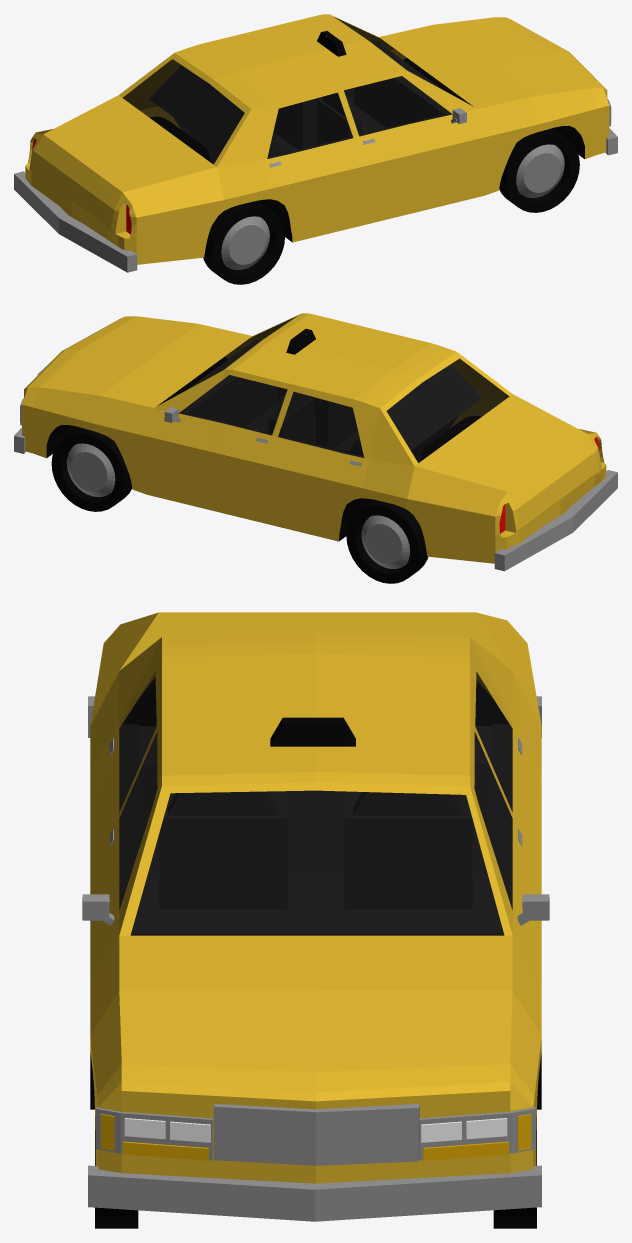
The picture shows the model from 3 angles, top to bottom: view 1: azimuth 30°, elevation 25°; view 2: azimuth 150°, elevation 25°; view 3: azimuth 270°, elevation 25°; orthographic projection. The views are drawn at different scales.
Parts seen in each view (by area): view 1: Cube.033_8, Cube.001_0, Cube.047_11, Cylinder.004_15, Cylinder_12, Cube.029_6, Cube.035_9, Cube.031_7; view 2: Cube.033_8, Cube.001_0, Cube.047_11, Cylinder.003_14, Cylinder.002_13, Cube.029_6, Cube.035_9, Cube.031_7; view 3: Cube.033_8, Cube.001_0, Cube.047_11, Cube.029_6, Cube.013_3, Cube.031_7, Cylinder.002_13, Cylinder_12.
Part boxes in pixels (x1,y1,x2,y2): Cube.033_8: (25, 14, 609, 264); Cube.001_0: (123, 17, 472, 164); Cube.047_11: (149, 41, 451, 163); Cylinder.004_15: (203, 200, 284, 284); Cylinder_12: (499, 128, 579, 212); Cube.029_6: (14, 99, 617, 272); Cube.035_9: (150, 58, 584, 242); Cube.031_7: (317, 31, 346, 56); Cube.033_8: (22, 313, 606, 563); Cube.001_0: (158, 317, 509, 462); Cube.047_11: (179, 340, 481, 462); Cylinder.003_14: (346, 499, 428, 583); Cylinder.002_13: (51, 427, 132, 511); Cube.029_6: (14, 361, 617, 571); Cube.035_9: (46, 357, 481, 541); Cube.031_7: (286, 328, 315, 354); Cube.033_8: (90, 612, 541, 1183); Cube.001_0: (119, 672, 512, 935); Cube.047_11: (119, 677, 512, 935); Cube.029_6: (82, 696, 549, 1221); Cube.013_3: (100, 1114, 531, 1160); Cube.031_7: (270, 717, 355, 746); Cylinder.002_13: (493, 1117, 536, 1228); Cylinder_12: (95, 1117, 138, 1228).
Bounding box in the file's own units: 8.53 × 2.73 × 3.34.
